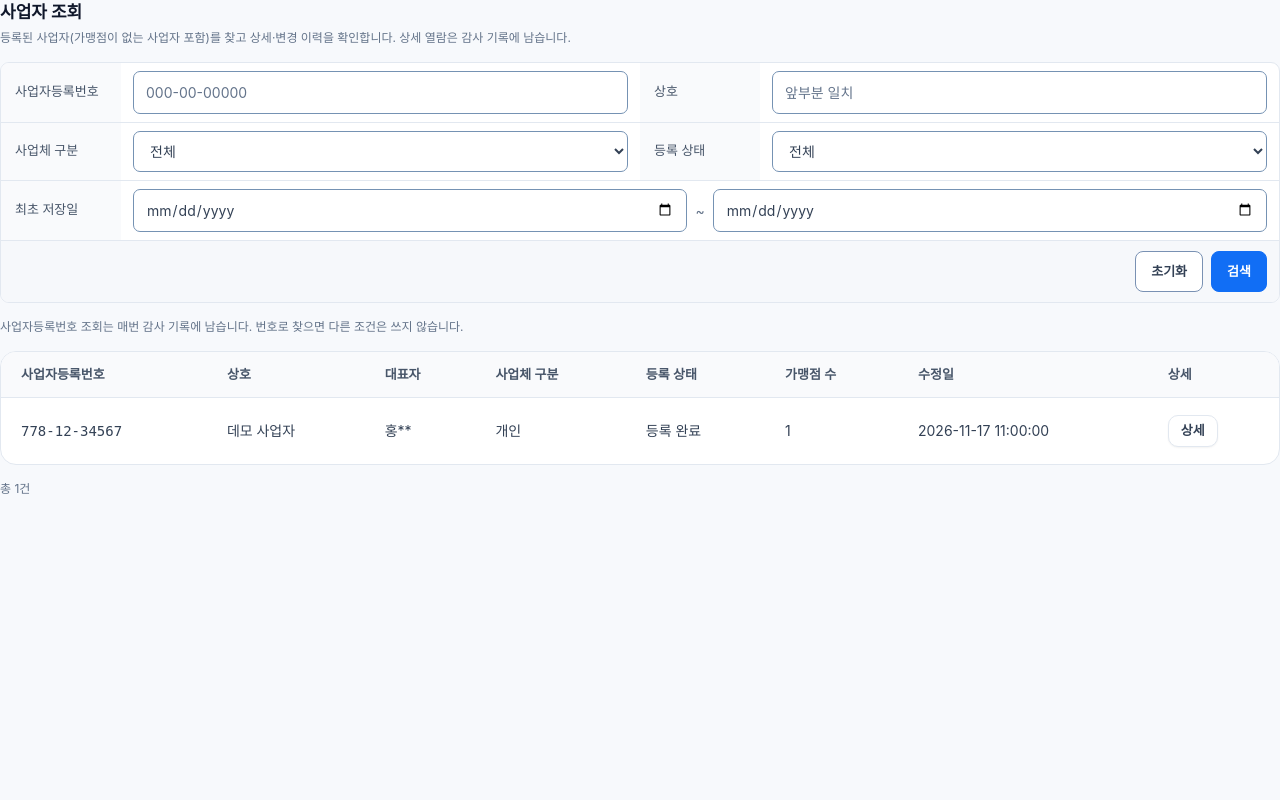
it: MERCHANT-FLOW-001 FLOW-1 — 사업자 상세 계약 진행 섹션(접수 건 표시) › 접수 건 최신부터: 상태·접수일·경로·담당자(표시명)·희망 서비스(참고용 문구)·근거, 전이 이력 표; R-1 안내
The image size is (1280, 800).
Click the button with aria-label "데모 사업자 상세" at {"x": 1193, "y": 431}, box [1168, 415, 1218, 447]
(page scrolled)
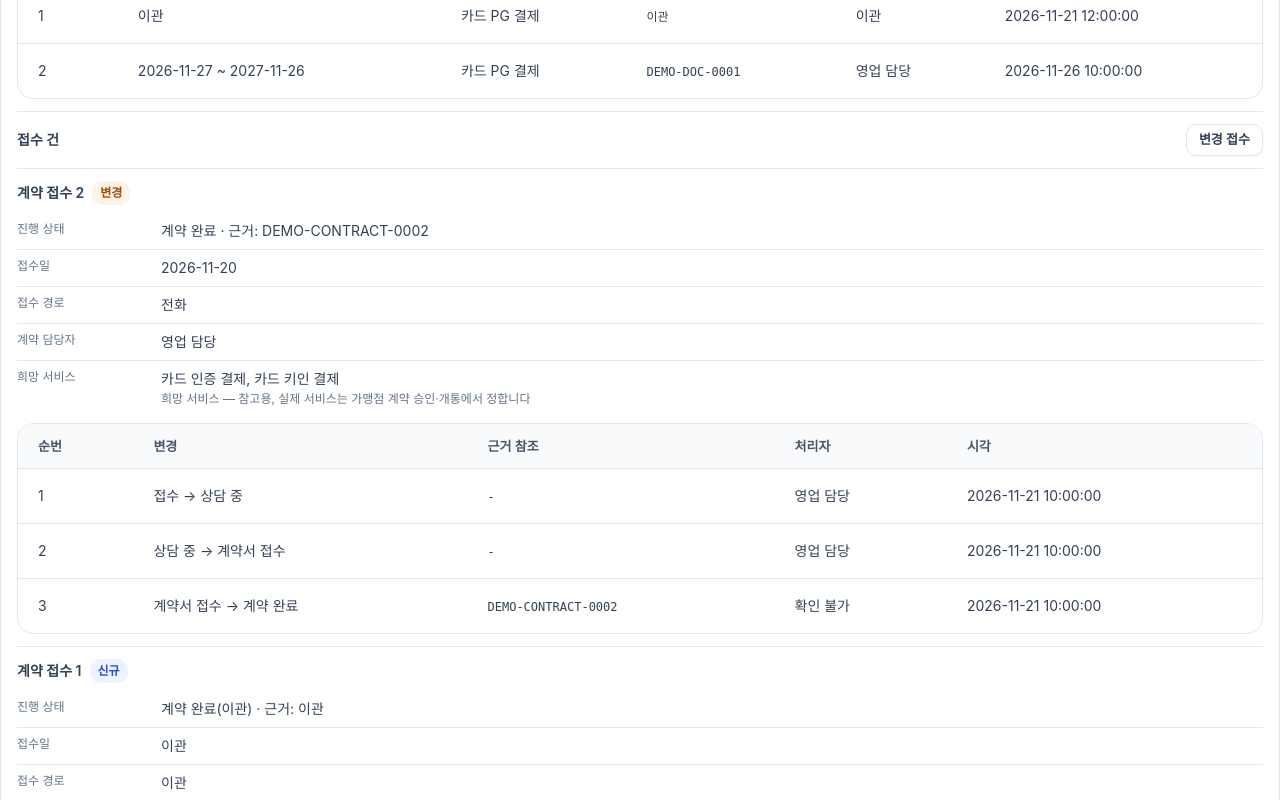
Result: the text "계약 완료 · 근거: DEMO-CONTRACT-0002" is shown at [161, 222, 429, 239]
Result: the element named "계약 접수 2" shows "2026-11-20" at [161, 259, 237, 276]
Result: the element named "계약 접수 2" shows "전화" at [161, 296, 187, 313]
